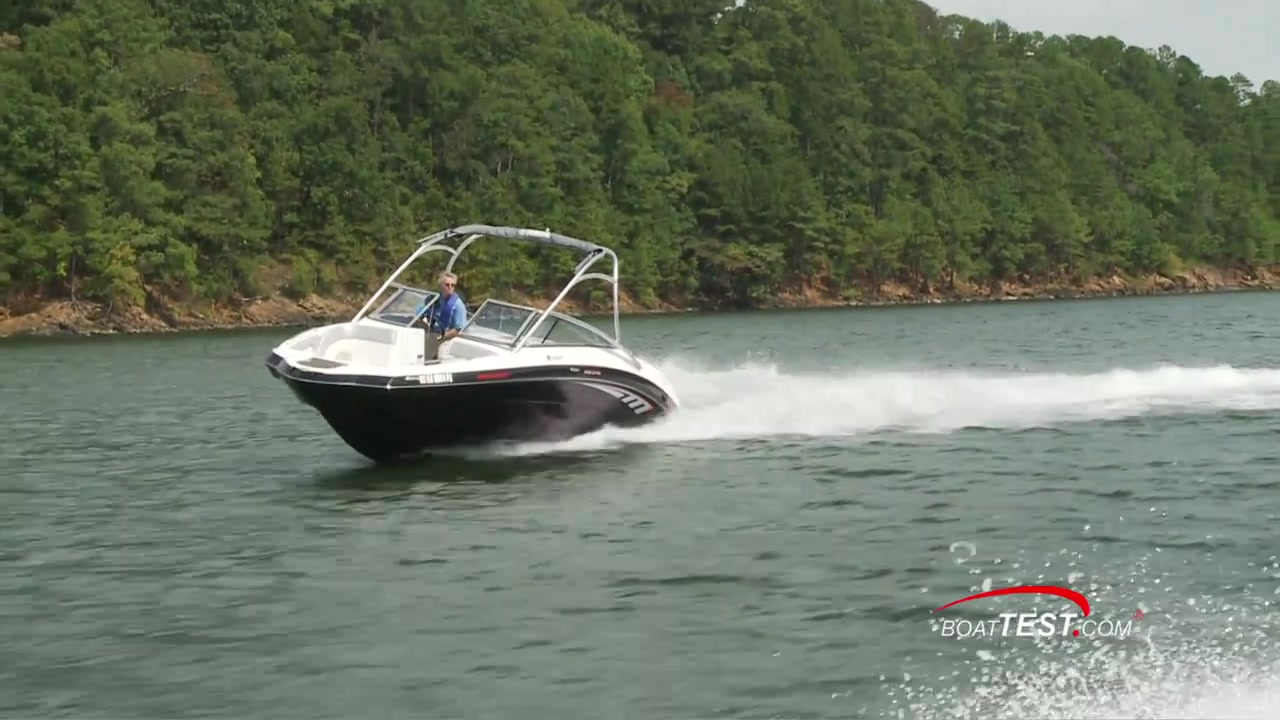boat: (263, 224, 676, 463)
